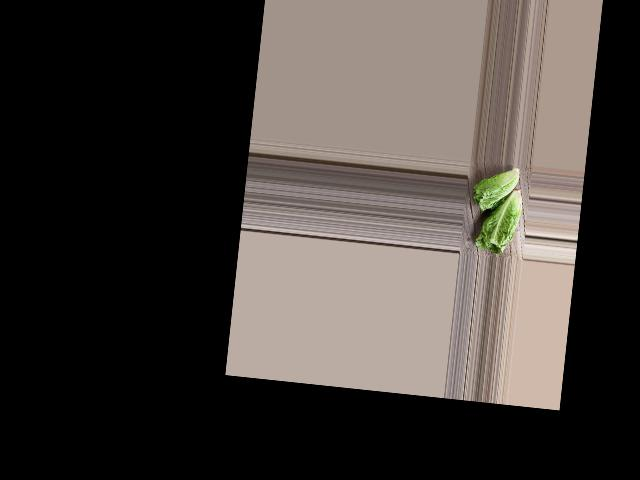lettuce: (467, 160, 522, 215)
